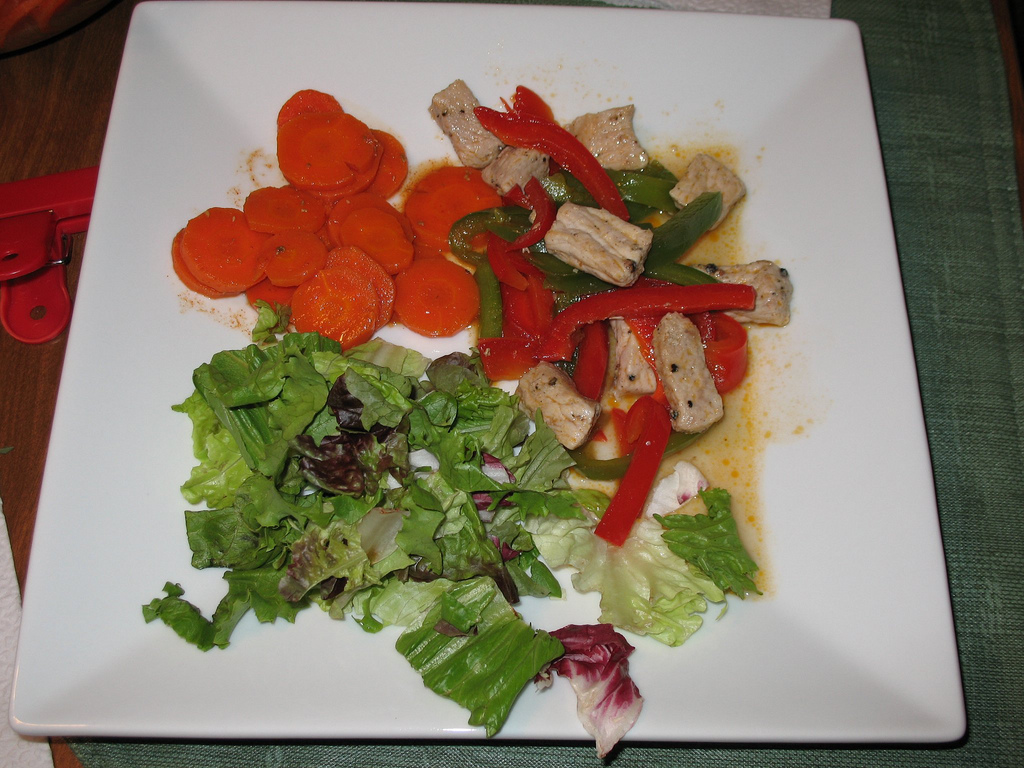chopped lettuce: (209, 363, 522, 579)
